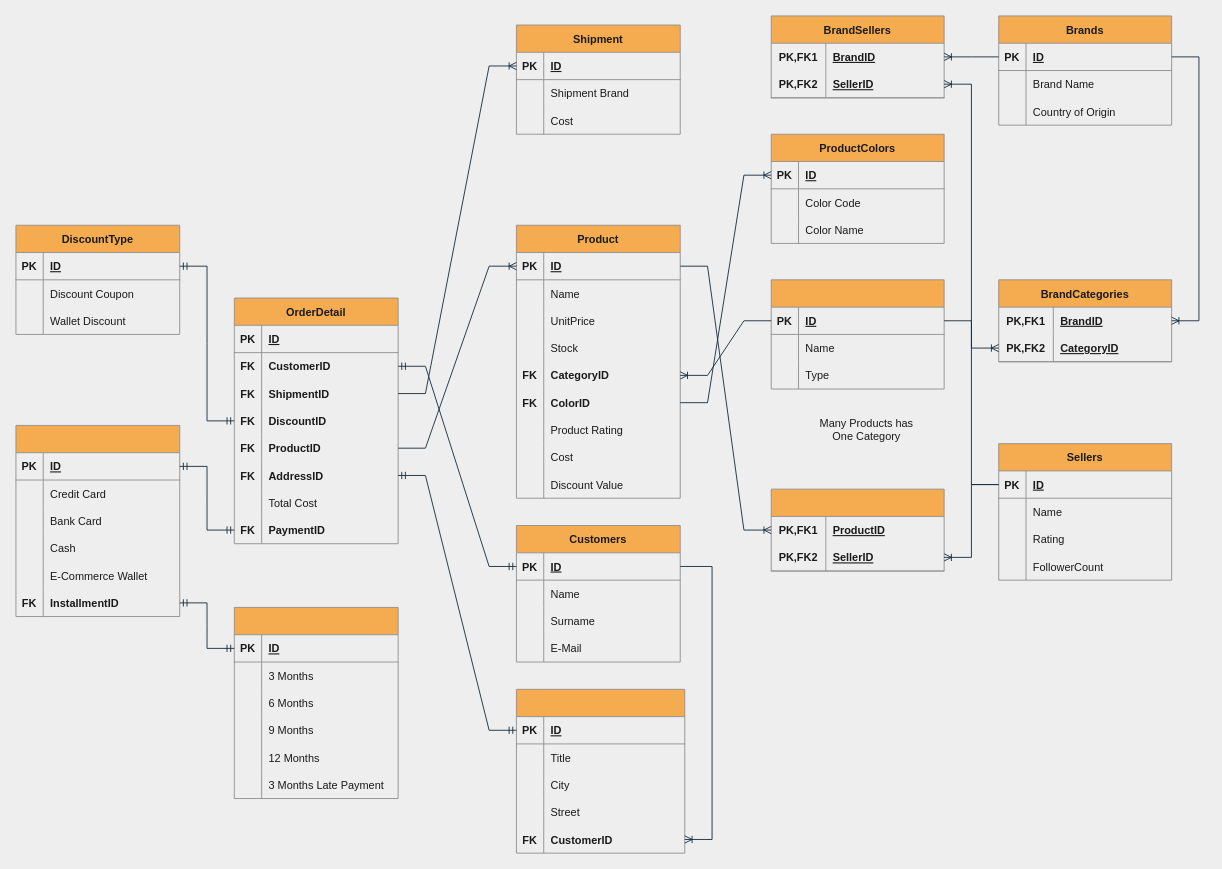
This 1222x869 diagram has some shape labels left out. Each missing label, with the box of its shape:
Addresses: (516, 688, 685, 853)
Categories: (770, 279, 944, 389)
InstallmentType: (233, 607, 398, 799)
PaymentTypes: (15, 425, 180, 617)
ProductSellers: (770, 488, 944, 571)
